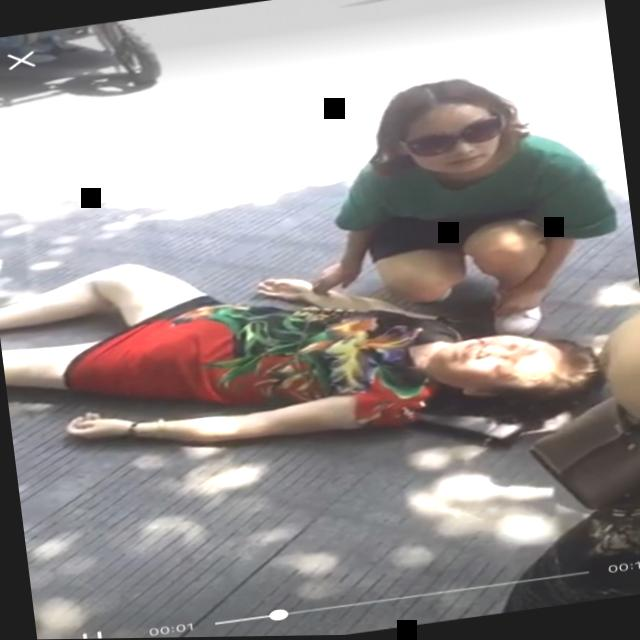Fall-Detected: (0, 192, 606, 508)
